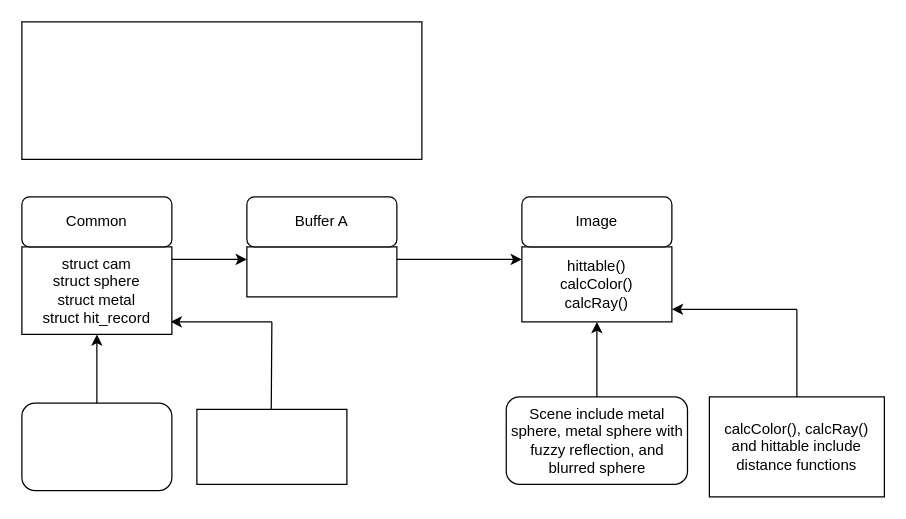
The diagram is 906 pixels wide and 519 high, and some of its shapes have lost their labels. The shapes that lost their labels are listed below. From the top down, each one's centre as x and y in pixels, then its label:
point (221, 90): add desctiptions to data structures and functions
point (321, 271): setSkyBox()
point (96, 446): structs are data structures
point (271, 446): cam has a declaration function
